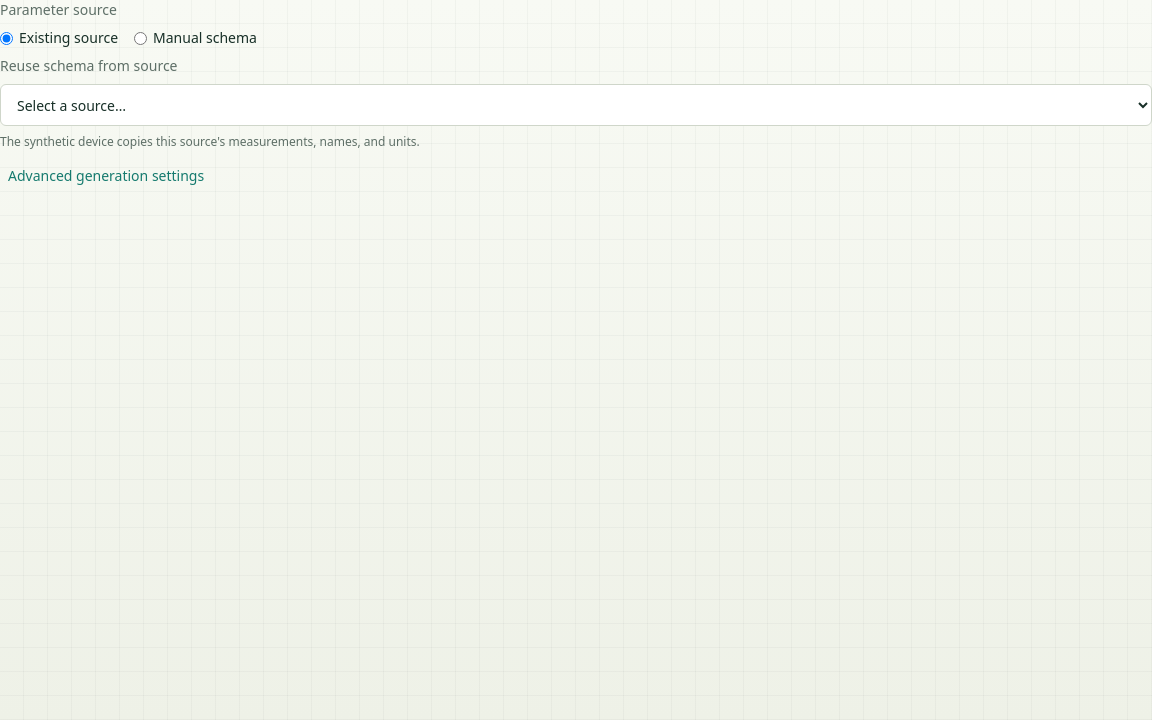
Test: SyntheticProfileStep — select-all / deselect-all (UI-487) › bulk pattern select skips rows that were deselected first (UI-488)
The width and height of the screenshot is (1152, 720).
Select "Source 1" in the dropdown labelled "Reuse schema from source" at (576, 105), box [0,84,1151,126]
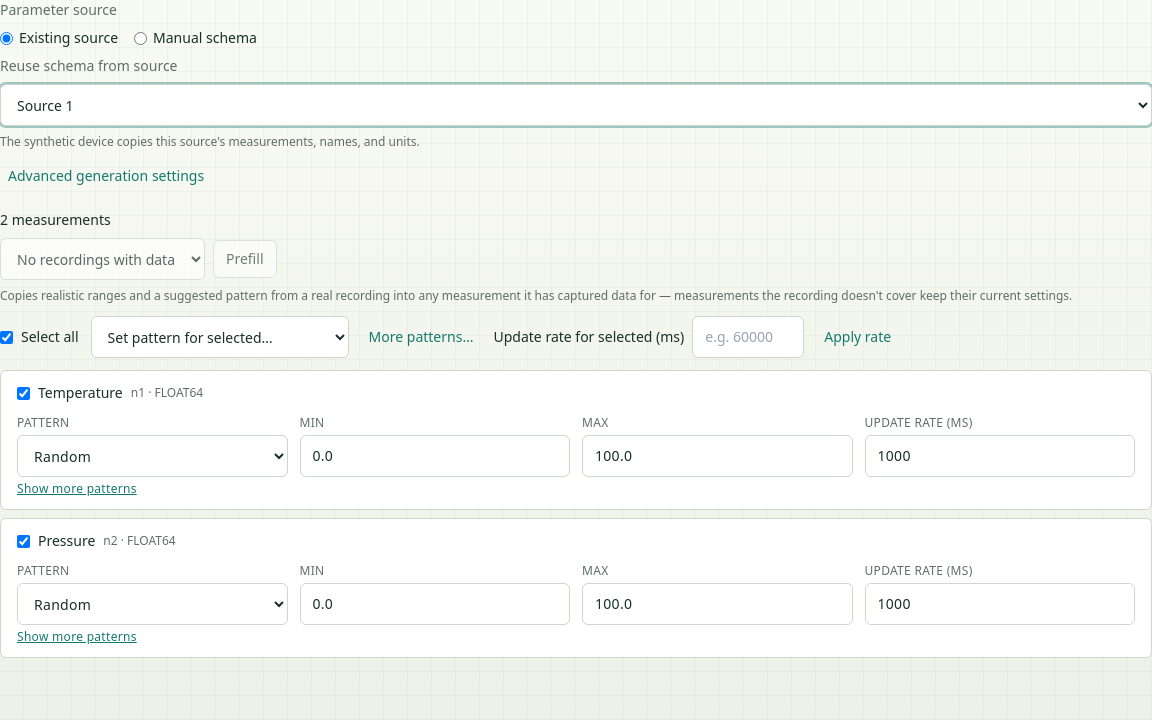
Click the checkbox labelled "Pressure n2 · FLOAT64" at (24, 541), box [17,534,30,548]
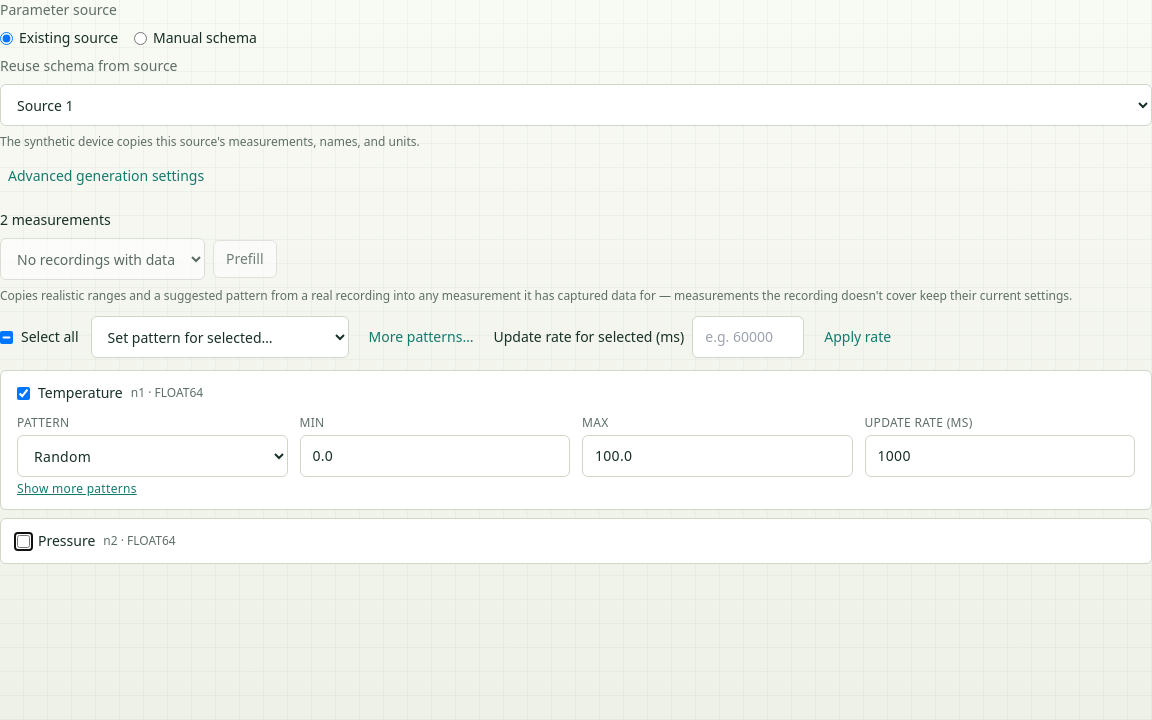
Select "Wave (rises and falls repeatedly)" in the dropdown named "Set pattern for selected" at (220, 337), box [91,316,349,358]
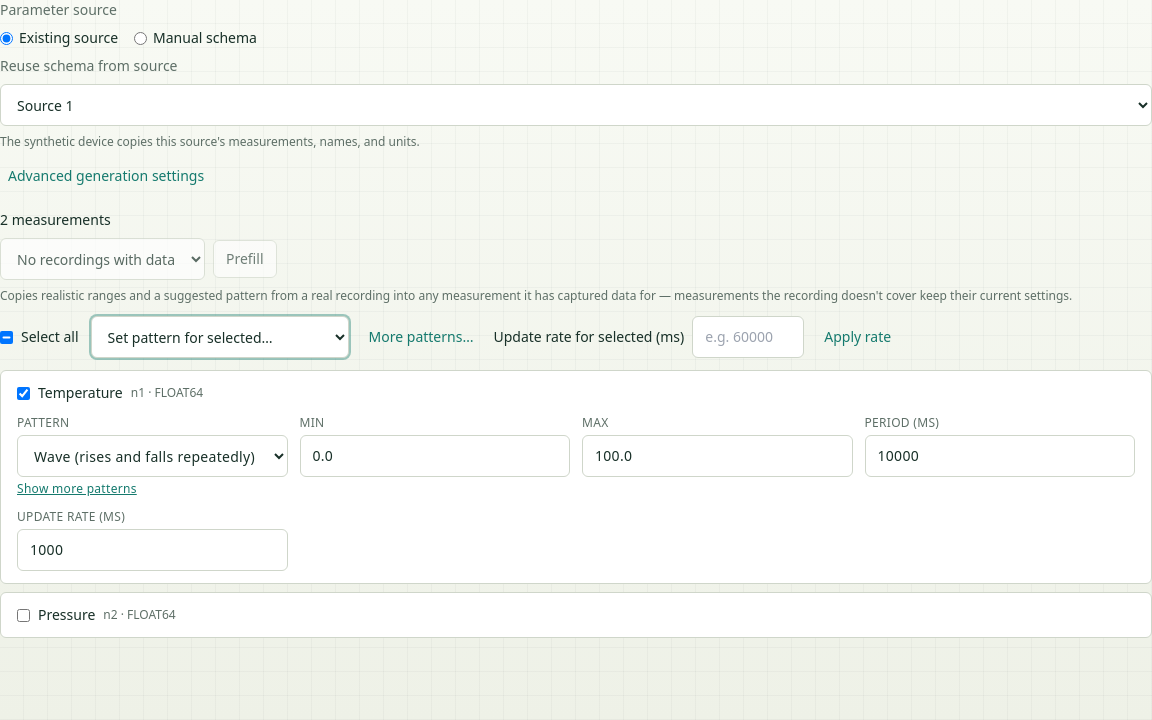
expect the dropdown labelled "Pattern Show more patterns" shows "Wave (rises and falls repeatedly)": met, box [17,435,288,477]
Click the checkbox labelled "Pressure n2 · FLOAT64" at (24, 615), box [17,608,30,622]
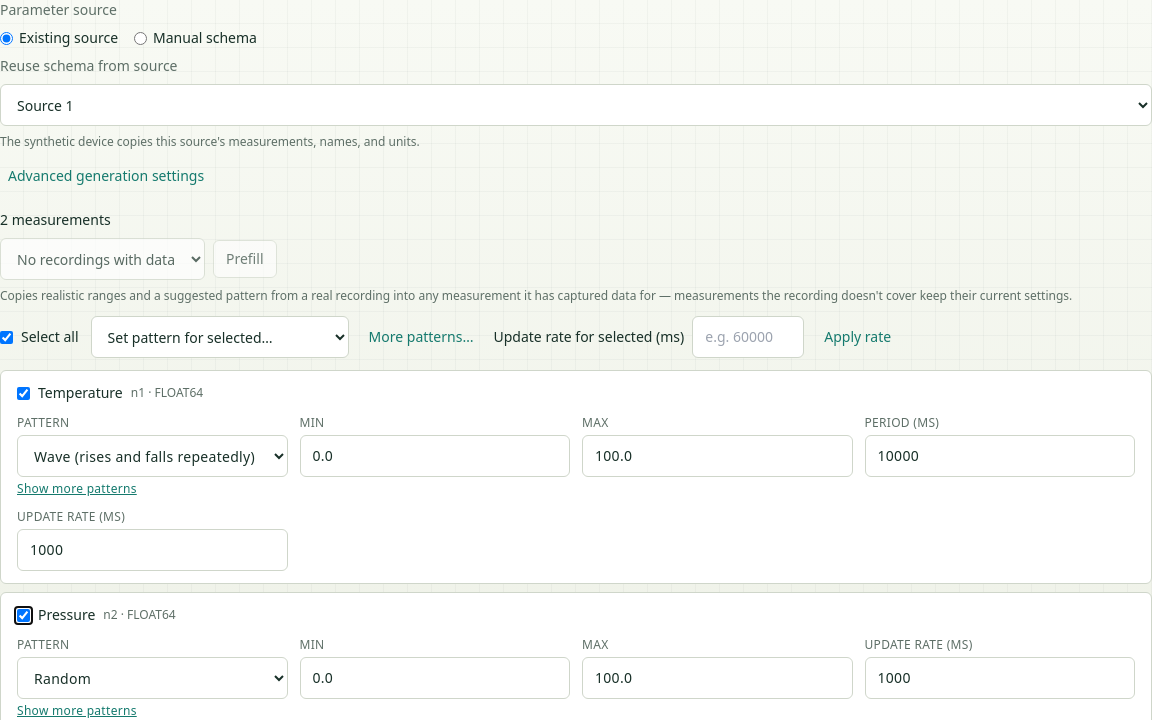
expect the dropdown labelled "Pattern Show more patterns" below "Pressure" shows "Random": met, box [17,657,288,699]
